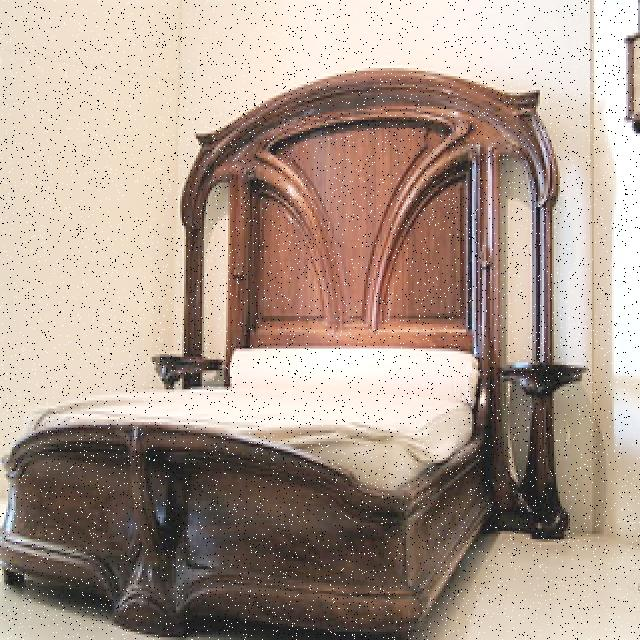bed: (18, 73, 568, 640)
